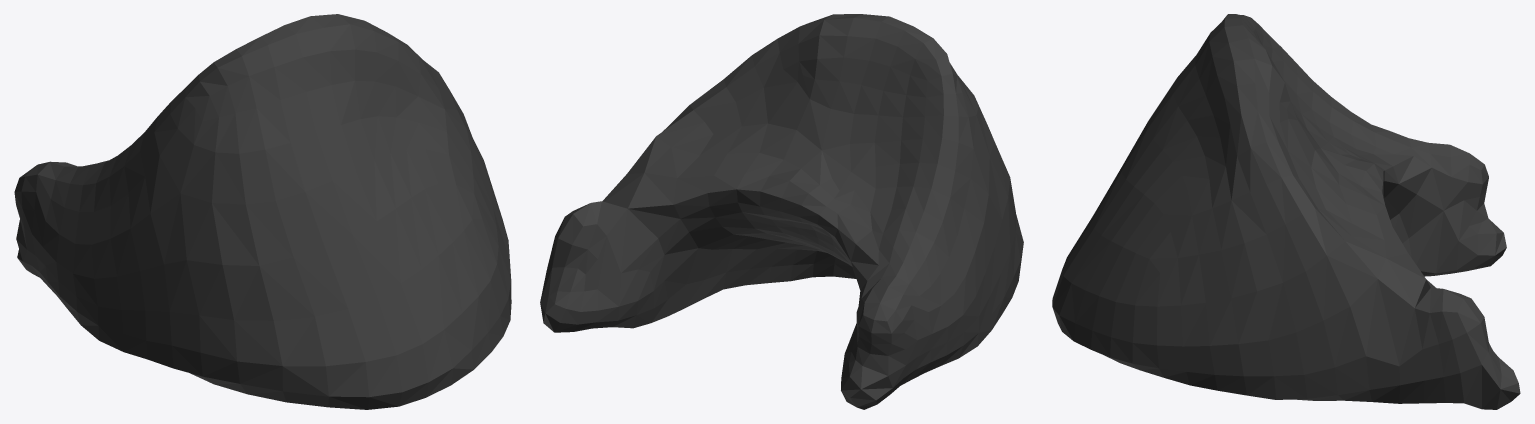
3 renders of one model, left to right at view 1: azimuth 30°, elevation 25°; view 2: azimuth 150°, elevation 25°; view 3: azimuth 270°, elevation 25°, orthographic. The views are drawn at different scales.
Visible parts, largest first — view 1: HL_P3_L; view 2: HL_P3_L; view 3: HL_P3_L.
Part boxes in pixels (x1=…): HL_P3_L: x1=14, y1=14, x2=511, y2=409; HL_P3_L: x1=540, y1=14, x2=1023, y2=409; HL_P3_L: x1=1052, y1=14, x2=1520, y2=409.
Bounding box in the file's own units: 0.1027 × 0.0768 × 0.1126.
Materials: 1 (1 with a texture image).
